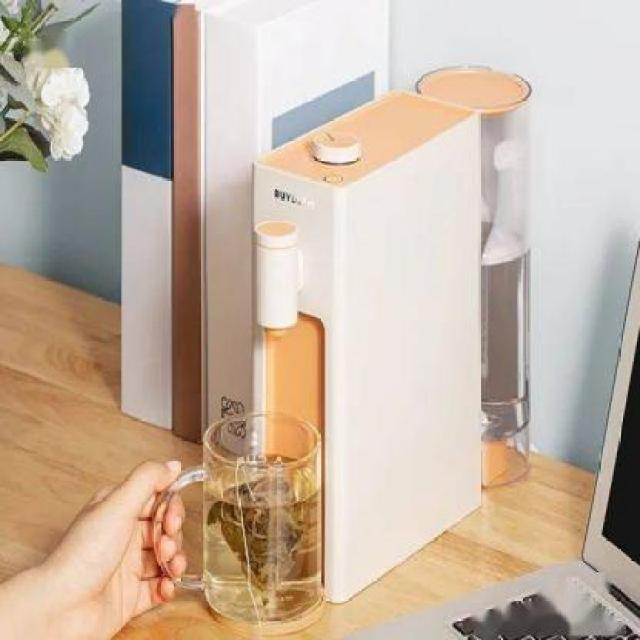cooler: (251, 89, 481, 604)
